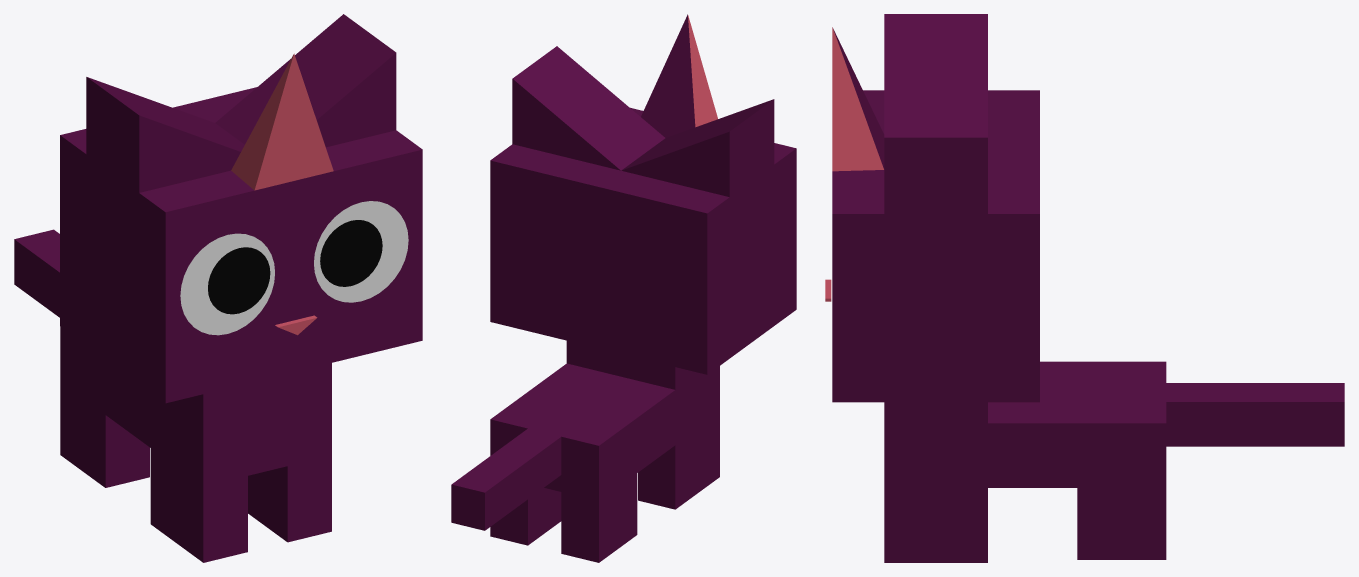
Rendered from Unikitty.FBX.
The picture shows the model from 3 angles, left to right: view 1: azimuth 30°, elevation 25°; view 2: azimuth 150°, elevation 25°; view 3: azimuth 270°, elevation 25°; orthographic projection. The views are drawn at different scales.
Visible parts, largest first — view 1: cat, yeux, Circle; view 2: cat; view 3: cat.
Part boxes in pixels (bbox=[...]): cat: bbox=[14, 14, 422, 562]; yeux: bbox=[180, 201, 408, 335]; Circle: bbox=[208, 220, 382, 314]; cat: bbox=[451, 14, 796, 562]; cat: bbox=[825, 14, 1344, 562].
Size of the model in its own units: 90.31 by 172 by 160.
